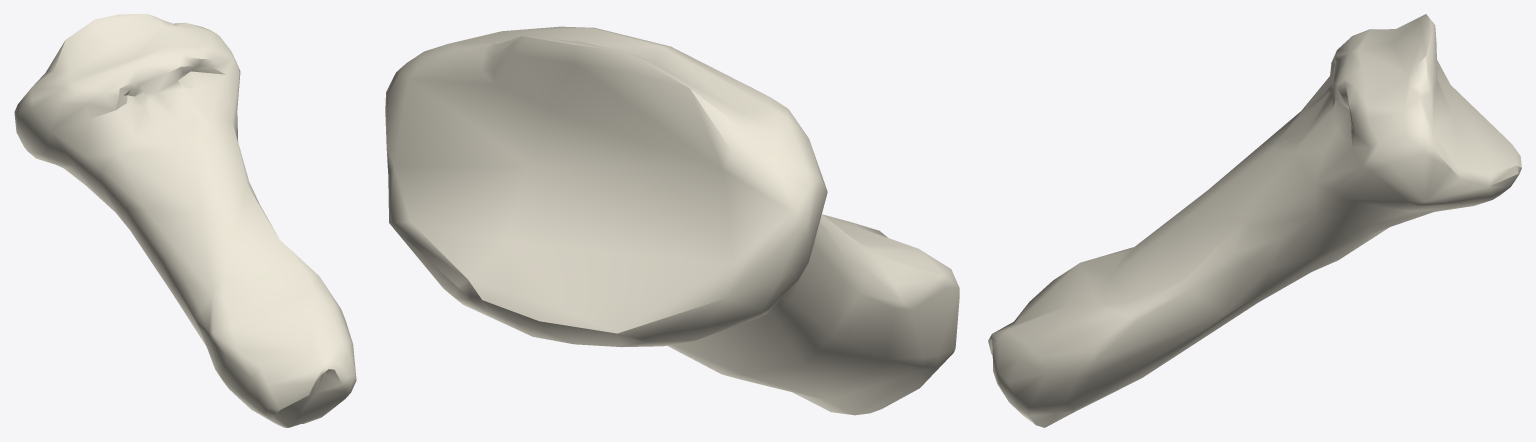
The model's file is fma23955.glb.
3 views of the same model, side by side, from view 1: azimuth 30°, elevation 25°; view 2: azimuth 150°, elevation 25°; view 3: azimuth 270°, elevation 25° (orthographic). The views are drawn at different scales.
Visible parts, largest first — view 1: FMA23955; view 2: FMA23955; view 3: FMA23955.
Part boxes in pixels (x1=…): FMA23955: x1=14, y1=14, x2=356, y2=427; FMA23955: x1=385, y1=26, x2=959, y2=415; FMA23955: x1=988, y1=14, x2=1521, y2=427.
Bounding box in the file's own units: 0.00968 × 0.0135 × 0.0174.
